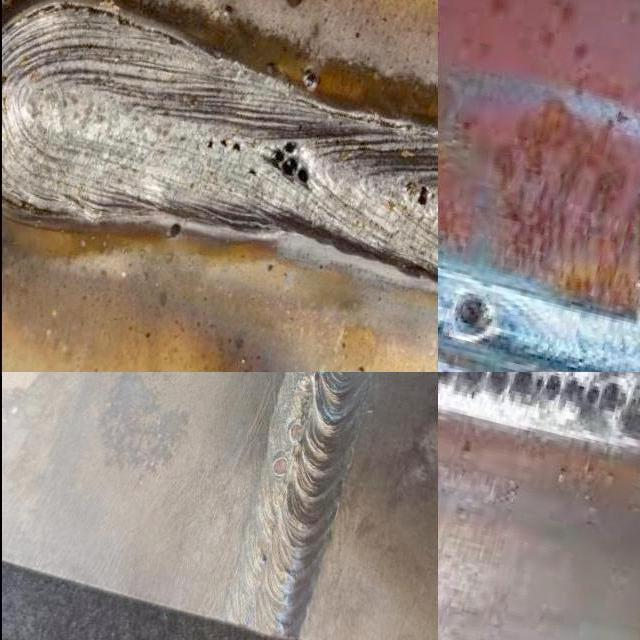defect: (436, 372, 634, 421), (445, 283, 499, 349), (256, 137, 312, 194), (203, 134, 244, 157), (267, 454, 289, 484), (287, 419, 307, 448), (414, 183, 436, 209), (166, 222, 183, 240), (257, 553, 270, 569), (246, 168, 257, 180)
